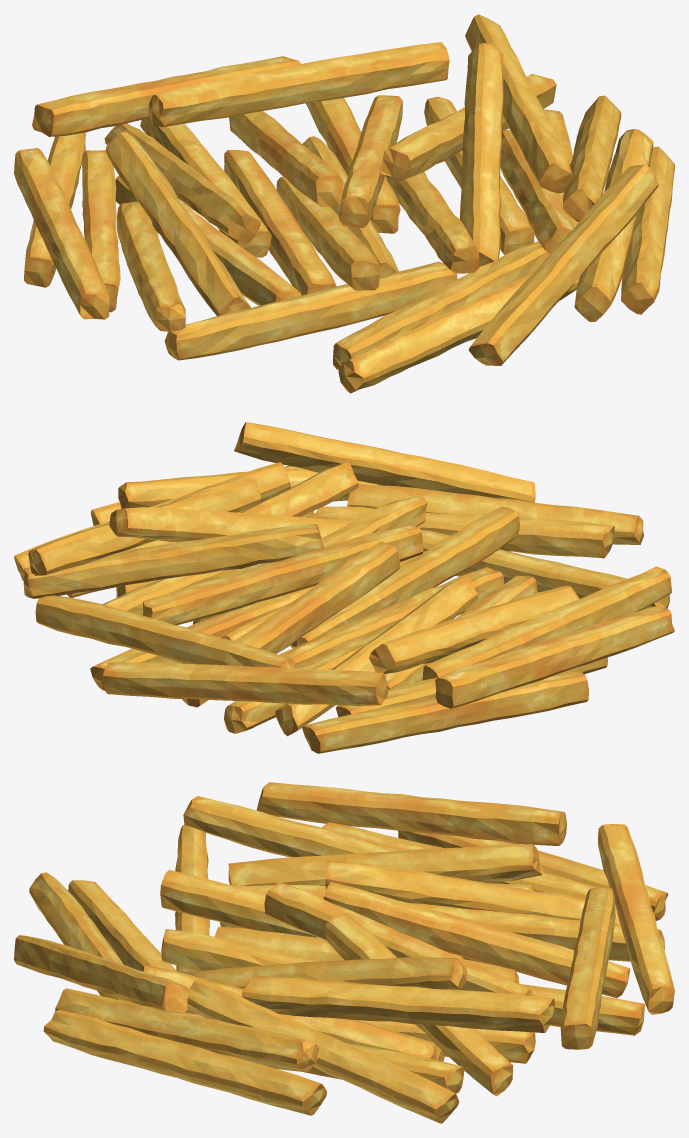
File: sweethome3d-scopia-french-fries.glb
The picture shows the model from 3 angles, top to bottom: view 1: azimuth 30°, elevation 25°; view 2: azimuth 150°, elevation 25°; view 3: azimuth 270°, elevation 25°; orthographic projection. The views are drawn at different scales.
Parts seen in each view (by area): view 1: frenchfry.016_Cube.048; view 2: frenchfry.016_Cube.048; view 3: frenchfry.016_Cube.048.
Boxes of the visible parts, x1,y1,x2,y2 form: frenchfry.016_Cube.048: (14,14,674,393); frenchfry.016_Cube.048: (14,422,674,753); frenchfry.016_Cube.048: (14,782,674,1123).
Bounding box in the file's own units: 20.41 × 3.52 × 19.16.
Materials: 1 (1 with a texture image).
